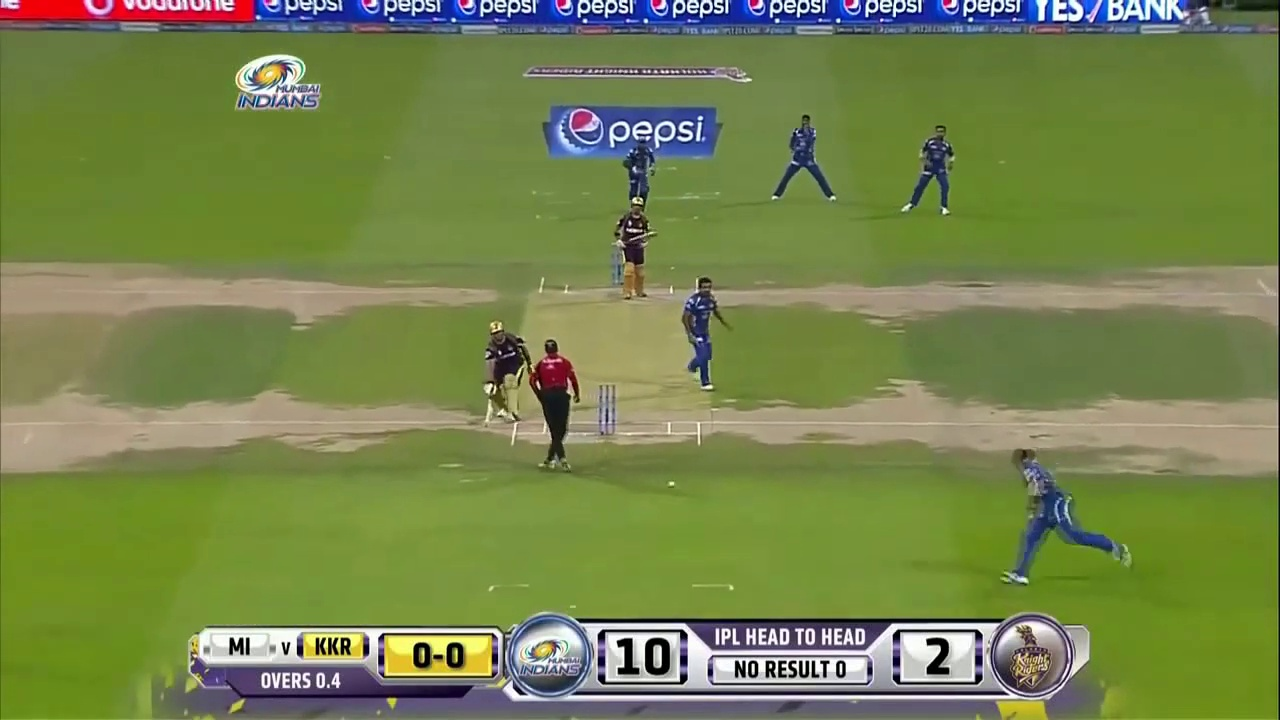bat: (483, 399, 495, 427)
stumps: (598, 381, 617, 435)
